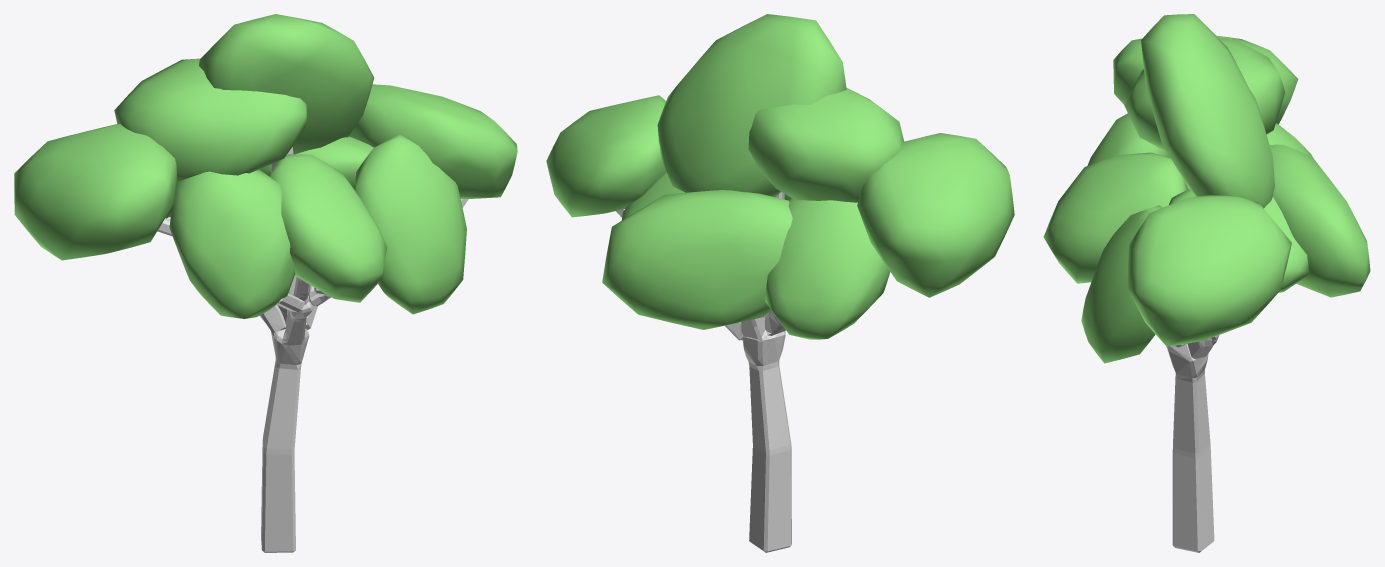
File: oaky.fbx
The picture shows the model from 3 angles, left to right: view 1: azimuth 30°, elevation 25°; view 2: azimuth 150°, elevation 25°; view 3: azimuth 270°, elevation 25°; orthographic projection. The views are drawn at different scales.
Visible parts, largest first — view 1: Leavz, donald trunk; view 2: Leavz, donald trunk; view 3: Leavz, donald trunk.
Boxes of the visible parts, left/top/right/bottom form: Leavz: left=14, top=14, right=517, bottom=318; donald trunk: left=157, top=147, right=468, bottom=552; Leavz: left=546, top=14, right=1014, bottom=339; donald trunk: left=616, top=192, right=791, bottom=552; Leavz: left=1043, top=14, right=1370, bottom=363; donald trunk: left=1166, top=182, right=1219, bottom=552.
Size of the model in its own units: 978 by 1080 by 621.
